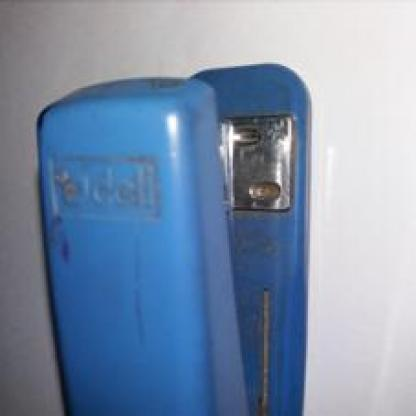stapler: (39, 55, 315, 415)
